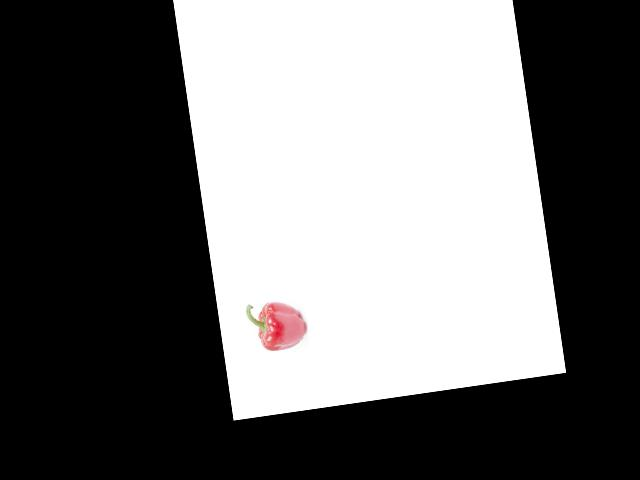bell_pepper: (244, 294, 310, 358)
